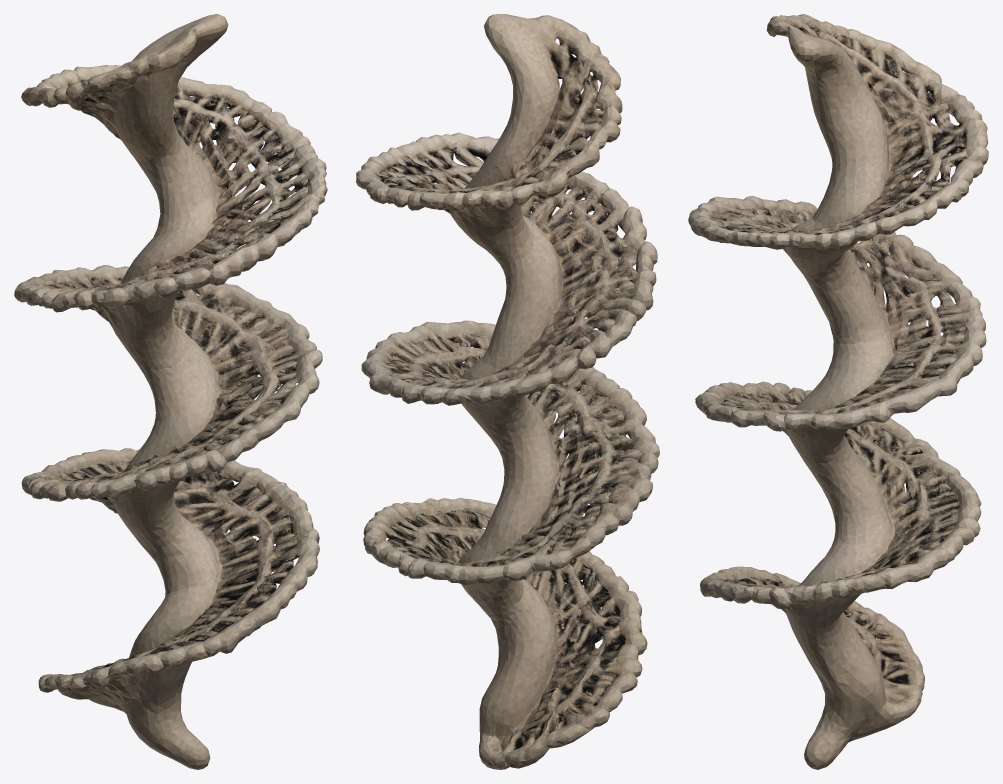
3 renders of one model, left to right at view 1: azimuth 30°, elevation 25°; view 2: azimuth 150°, elevation 25°; view 3: azimuth 270°, elevation 25°, orthographic. The views are drawn at different scales.
Parts seen in each view (by area): view 1: world; view 2: world; view 3: world.
Boxes of the visible parts, bbox=[...] form: world: bbox=[14, 14, 327, 769]; world: bbox=[356, 14, 659, 769]; world: bbox=[688, 14, 988, 769].
Size of the model in its own units: 0.3695 by 1 by 0.3711.
Materials: 1 (1 with a texture image).
